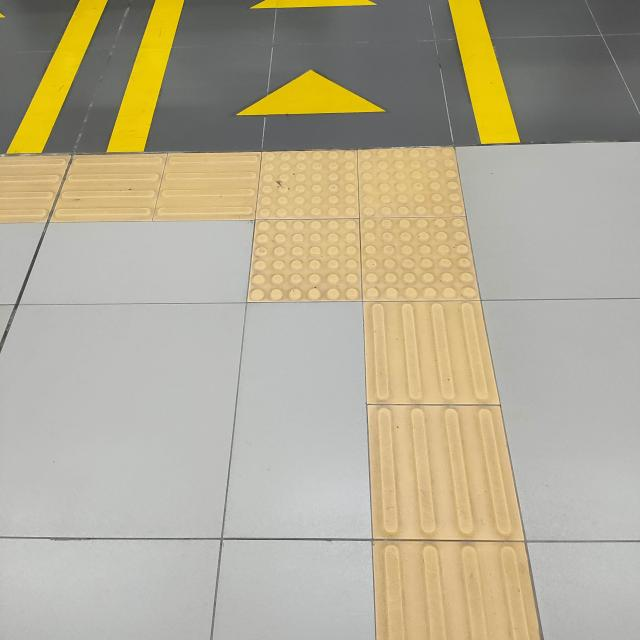kiri: (90, 114, 570, 348)
